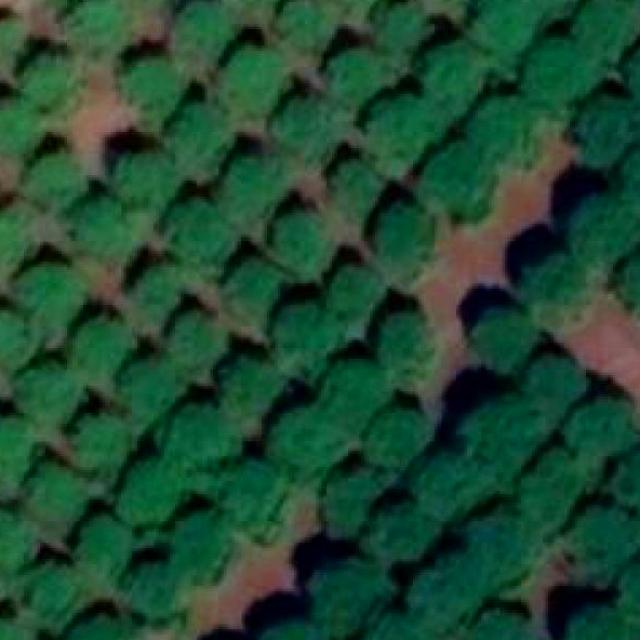Tree: (299, 559, 382, 636), (359, 89, 446, 160), (562, 192, 640, 270), (267, 97, 350, 170), (516, 254, 594, 327), (159, 197, 233, 271), (418, 556, 486, 636), (462, 397, 538, 468), (516, 453, 587, 529), (472, 299, 543, 373), (373, 194, 442, 269), (165, 102, 235, 175), (472, 100, 546, 168), (564, 510, 634, 580), (375, 310, 444, 381), (559, 394, 633, 460), (272, 303, 340, 374), (70, 200, 136, 271), (276, 411, 347, 477), (13, 264, 86, 328), (418, 44, 486, 112), (218, 48, 288, 114), (472, 508, 540, 575), (18, 568, 86, 634), (411, 446, 478, 512), (216, 157, 281, 225), (218, 354, 286, 419), (427, 146, 496, 210), (162, 510, 232, 573), (326, 470, 394, 534), (570, 98, 634, 166), (523, 44, 586, 112), (368, 508, 434, 572), (273, 206, 335, 274), (24, 472, 92, 534), (116, 462, 182, 525), (17, 51, 84, 113), (323, 256, 387, 320), (321, 362, 384, 427), (366, 408, 431, 471), (224, 253, 285, 320), (118, 53, 182, 116), (23, 154, 88, 216), (67, 411, 128, 477), (119, 557, 186, 617), (114, 148, 176, 212), (21, 361, 83, 424), (569, 0, 640, 55), (70, 316, 131, 380), (167, 410, 228, 472), (332, 159, 392, 222), (164, 308, 228, 367), (224, 463, 282, 528), (324, 49, 390, 106), (170, 0, 236, 56), (472, 0, 540, 54), (72, 516, 131, 576), (124, 259, 180, 318), (280, 0, 343, 51), (67, 0, 131, 50), (524, 363, 578, 420), (0, 99, 44, 162), (564, 604, 640, 640), (0, 514, 35, 592), (124, 368, 178, 418), (0, 420, 40, 484), (0, 310, 42, 366), (375, 0, 422, 50), (611, 451, 640, 524), (618, 40, 640, 136), (364, 609, 429, 640), (72, 607, 131, 640), (259, 613, 331, 640), (470, 613, 541, 640), (0, 210, 30, 271), (618, 554, 640, 618), (0, 16, 27, 61), (620, 253, 640, 305)
